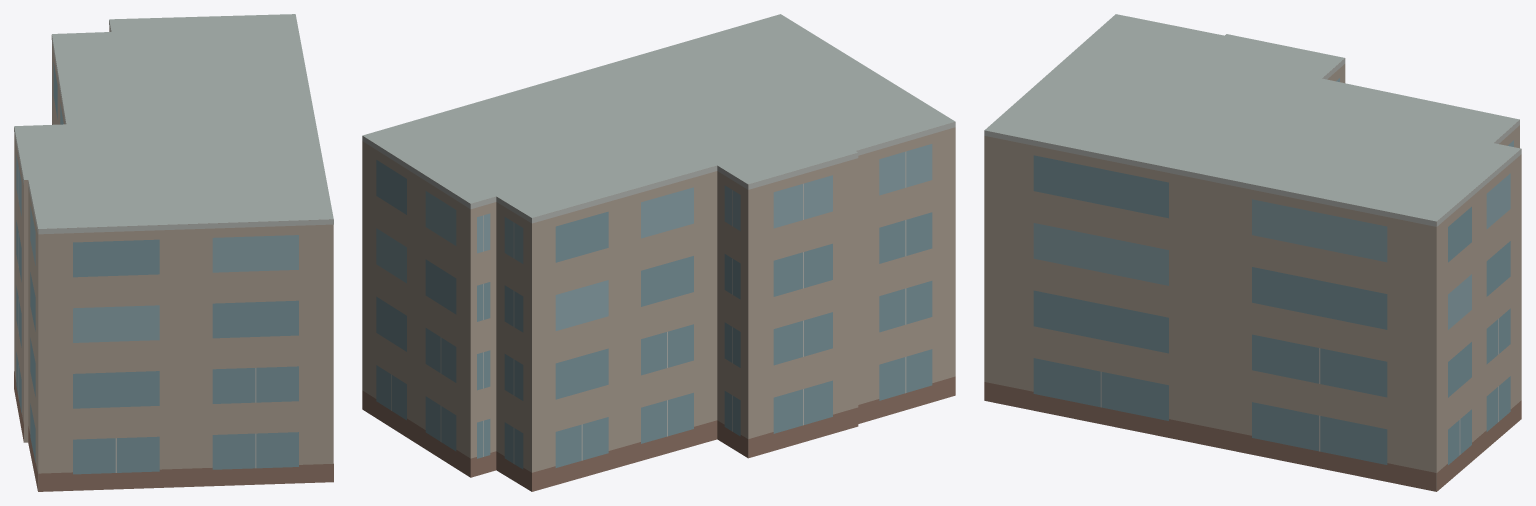
The model's file is survey-upis-32670831.glb.
3 renders of one model, left to right at view 1: azimuth 30°, elevation 25°; view 2: azimuth 150°, elevation 25°; view 3: azimuth 270°, elevation 25°, orthographic. The views are drawn at different scales.
Visible parts, largest first — view 1: survey-upis-32670831.tmp; view 2: survey-upis-32670831.tmp; view 3: survey-upis-32670831.tmp.
Part boxes in pixels (x1,y1,x2,y2): survey-upis-32670831.tmp: [14, 14, 333, 491]; survey-upis-32670831.tmp: [362, 14, 955, 491]; survey-upis-32670831.tmp: [984, 14, 1521, 491].
Bounding box in the file's own units: 20.1 × 12.2 × 21.98.
